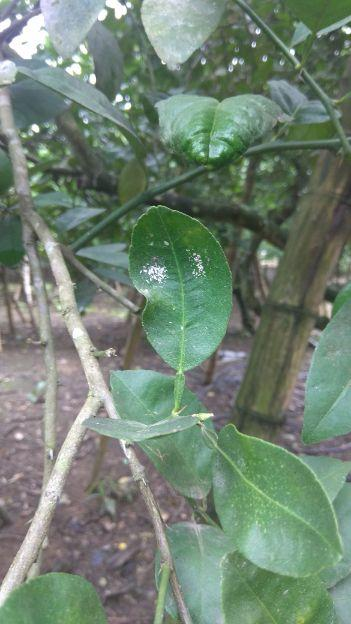Myzus persicae: (145, 261, 169, 283), (192, 254, 211, 281)
